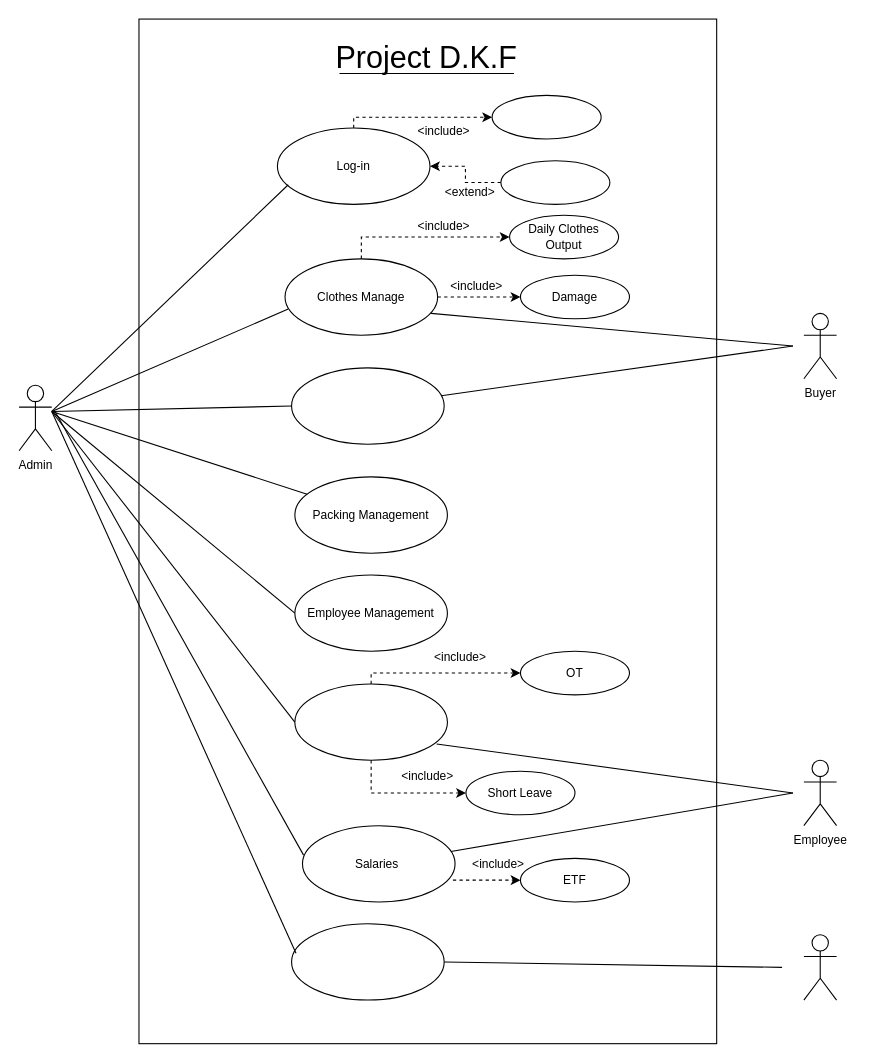
The diagram is 870 pixels wide and 1063 high, and some of its shapes have lost their labels. The box of each missing label's shape, as (x1, y1, x2, y2) in pixels:
Attendance: (294, 683, 447, 760)
Check Password: (491, 94, 601, 139)
Customers: (803, 934, 837, 1000)
Error Massage: (500, 160, 610, 204)
Factory Outlet Manage: (290, 923, 444, 1000)
Input Manage: (290, 367, 444, 444)
